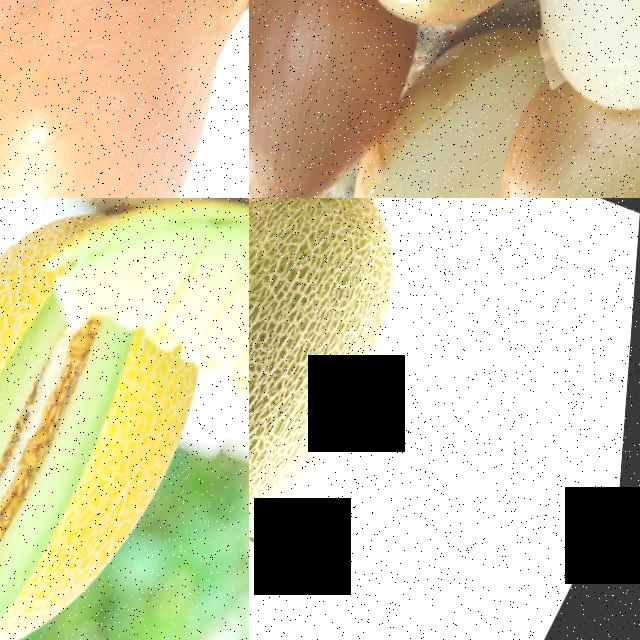melon: (0, 266, 226, 640), (249, 198, 455, 608), (35, 198, 249, 468)
onion: (0, 0, 249, 198), (331, 7, 559, 198), (249, 0, 441, 198), (470, 70, 640, 198), (311, 0, 614, 67), (496, 0, 640, 133)
